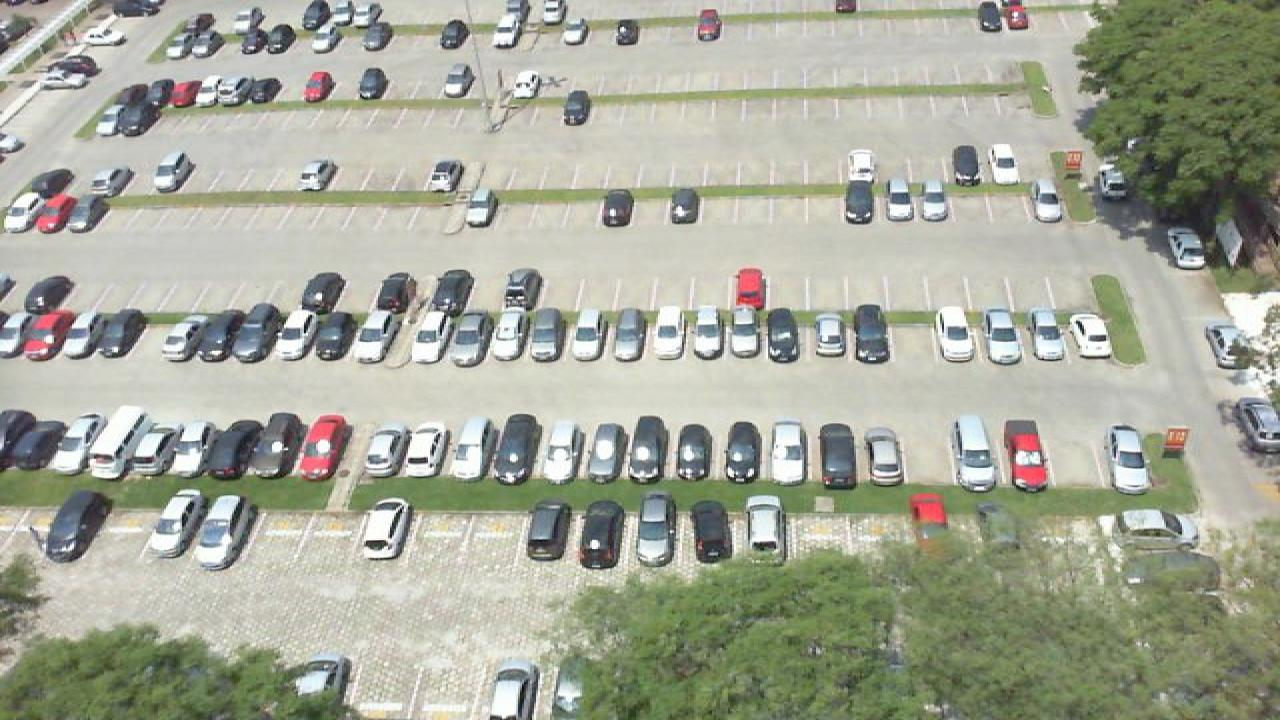Car: (38, 489, 112, 564), (192, 492, 256, 569), (88, 404, 146, 479), (146, 488, 208, 558), (1000, 418, 1050, 494), (574, 498, 626, 570), (250, 412, 306, 478), (492, 413, 544, 484), (954, 412, 1000, 492), (356, 497, 412, 562), (206, 419, 264, 480), (54, 411, 108, 476), (1104, 424, 1152, 496), (296, 413, 348, 479), (630, 493, 676, 566), (1114, 507, 1200, 544), (744, 495, 788, 567), (690, 500, 736, 568), (628, 415, 672, 486), (816, 422, 860, 490), (196, 302, 244, 364), (768, 418, 812, 485), (450, 416, 496, 480), (526, 498, 572, 560), (404, 421, 452, 480), (404, 308, 452, 366), (24, 415, 72, 473), (540, 422, 586, 482), (724, 423, 766, 485), (24, 308, 72, 361), (128, 416, 170, 476), (586, 422, 626, 485), (864, 426, 904, 488), (982, 307, 1024, 366), (166, 417, 208, 476), (238, 305, 282, 361), (446, 310, 490, 366), (316, 307, 360, 362), (676, 423, 716, 483), (934, 306, 976, 363), (1238, 396, 1280, 453), (852, 303, 892, 362), (906, 493, 954, 542), (974, 504, 1024, 551), (156, 309, 202, 360), (362, 425, 406, 478), (1070, 313, 1116, 362), (764, 306, 804, 362), (0, 410, 36, 472), (280, 308, 322, 361), (354, 310, 396, 362), (488, 310, 528, 364), (22, 275, 74, 316), (498, 266, 544, 312), (1206, 322, 1250, 370), (526, 307, 564, 362), (1164, 225, 1210, 270), (568, 306, 606, 360), (370, 271, 416, 315), (612, 308, 650, 361), (650, 306, 688, 359), (692, 306, 730, 359), (64, 311, 104, 361), (66, 189, 112, 232), (1030, 309, 1068, 361), (432, 268, 474, 314), (300, 271, 346, 312), (154, 150, 196, 194), (730, 308, 764, 360), (38, 191, 80, 233), (730, 266, 770, 310), (0, 191, 42, 232), (812, 315, 850, 360), (1032, 178, 1068, 222), (918, 176, 952, 222), (842, 180, 876, 225), (462, 188, 500, 228), (988, 142, 1024, 184), (422, 158, 462, 195), (600, 187, 636, 227), (88, 168, 136, 198), (296, 158, 338, 192), (882, 178, 914, 222), (0, 309, 28, 359), (666, 187, 702, 225), (490, 14, 528, 50), (110, 102, 148, 136), (952, 144, 982, 186), (558, 90, 592, 127), (300, 0, 336, 34), (1098, 162, 1130, 200), (40, 65, 90, 89), (36, 170, 74, 201), (508, 69, 544, 101), (300, 70, 336, 102), (54, 52, 102, 75), (846, 147, 878, 181), (128, 97, 164, 127), (162, 28, 194, 61), (420, 67, 454, 98), (194, 75, 226, 107), (358, 66, 388, 100), (694, 8, 724, 42), (976, 0, 1006, 34), (220, 75, 252, 106), (144, 82, 176, 113), (188, 25, 220, 56), (250, 76, 282, 105), (168, 79, 200, 108), (212, 11, 244, 40), (240, 26, 272, 55), (1002, 0, 1032, 30), (270, 26, 300, 55), (360, 27, 392, 54), (424, 19, 450, 50), (308, 28, 338, 54), (332, 0, 362, 26), (540, 0, 568, 26), (614, 18, 640, 46), (496, 0, 532, 20), (560, 18, 586, 45), (358, 2, 382, 28)
